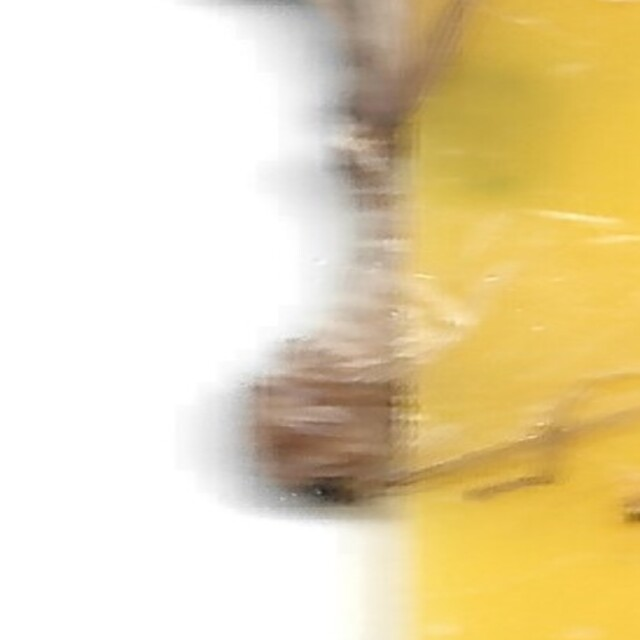Ephemeroptera: (234, 126, 406, 514)
